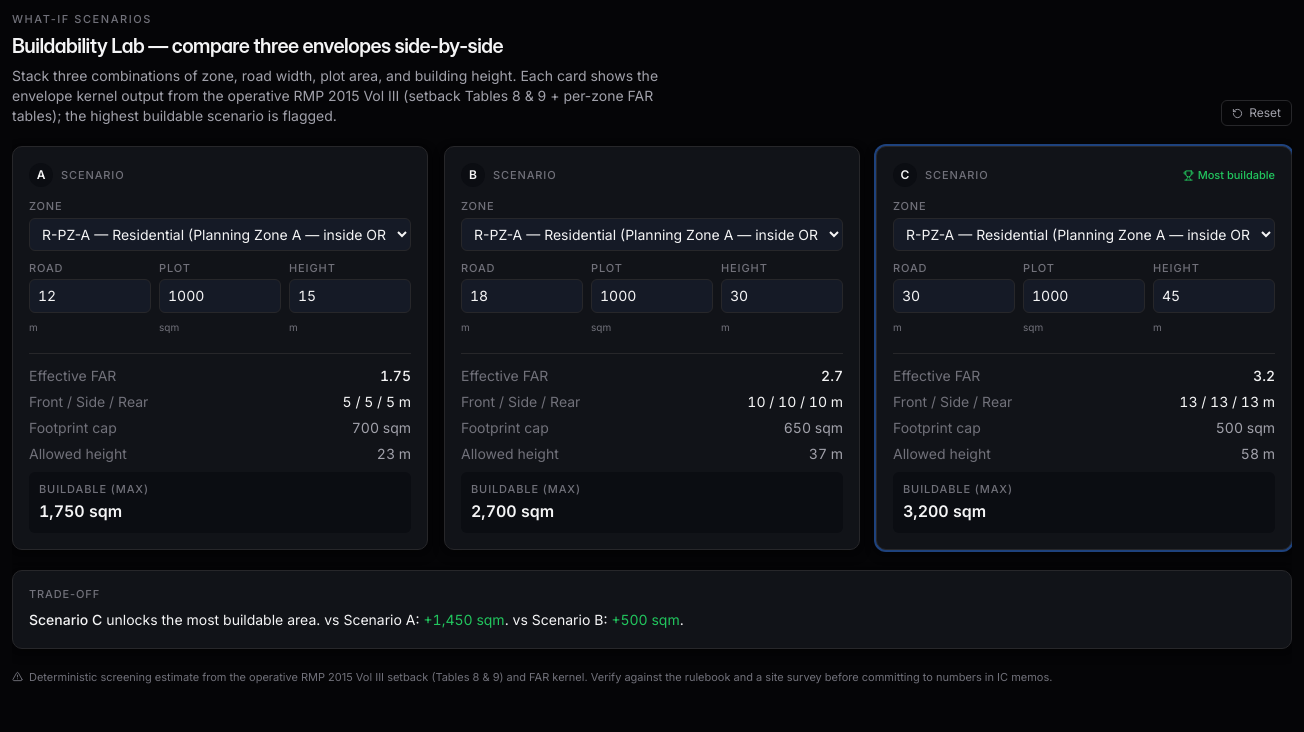
Test case: BuildabilityLab › resets all three scenarios when Reset is clicked
Replace the text in the number field named "Scenario A road width" with "99" at (90, 296), box x1=29 y1=279 x2=151 y2=313
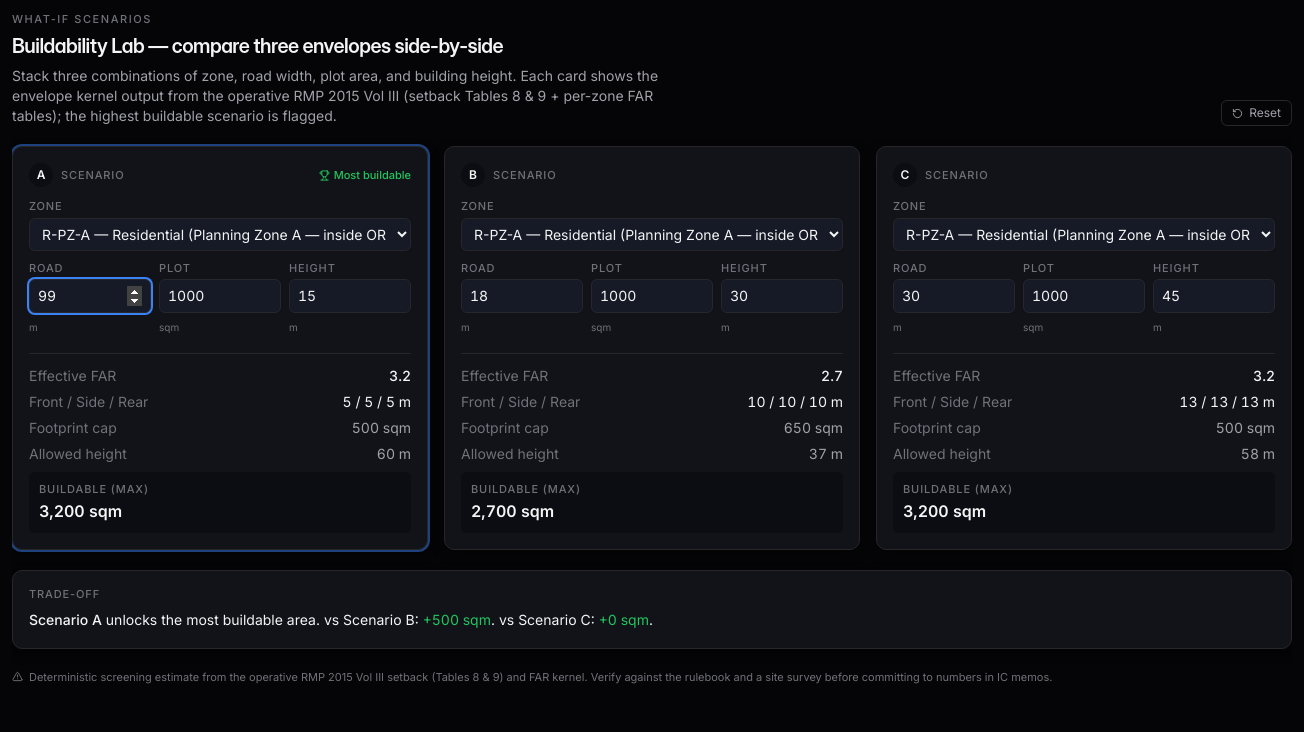
Click the button "Reset" at (1257, 113), box x1=1221 y1=100 x2=1292 y2=126
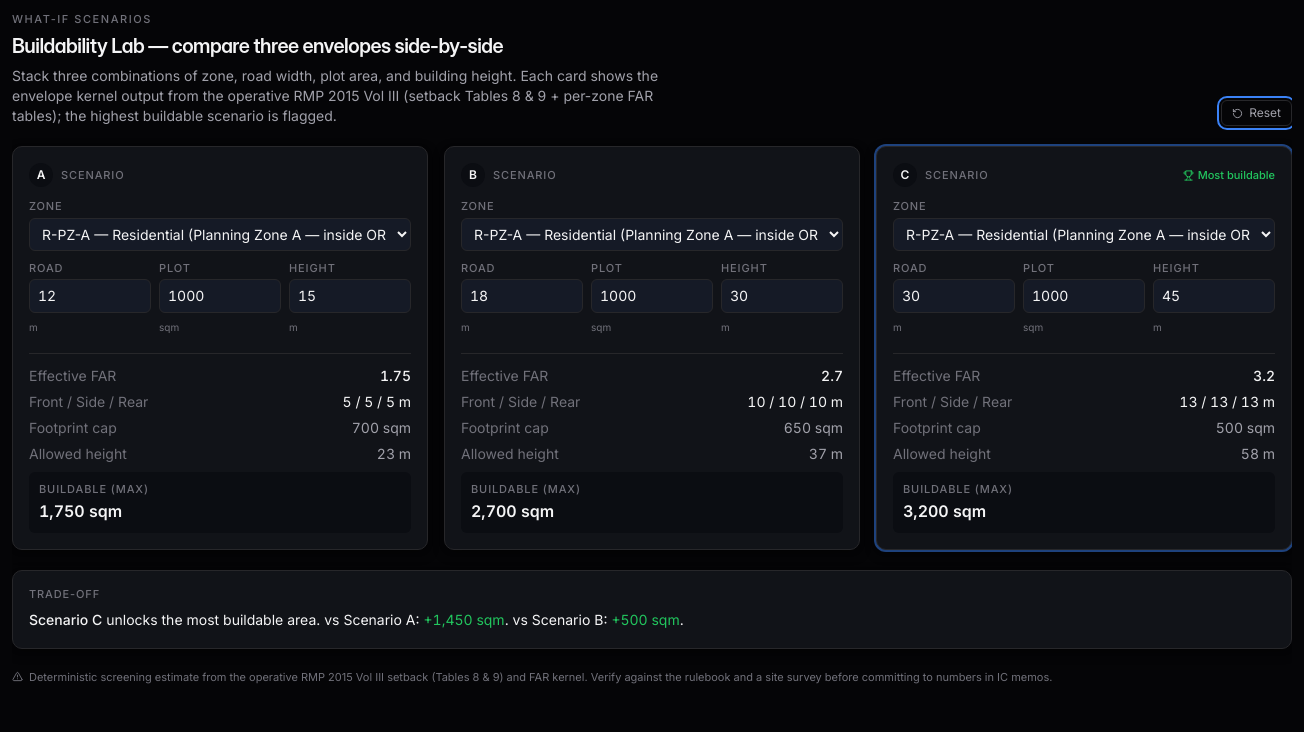
Result: the number field named "Scenario A road width" holds "12" at x1=29 y1=279 x2=151 y2=313
